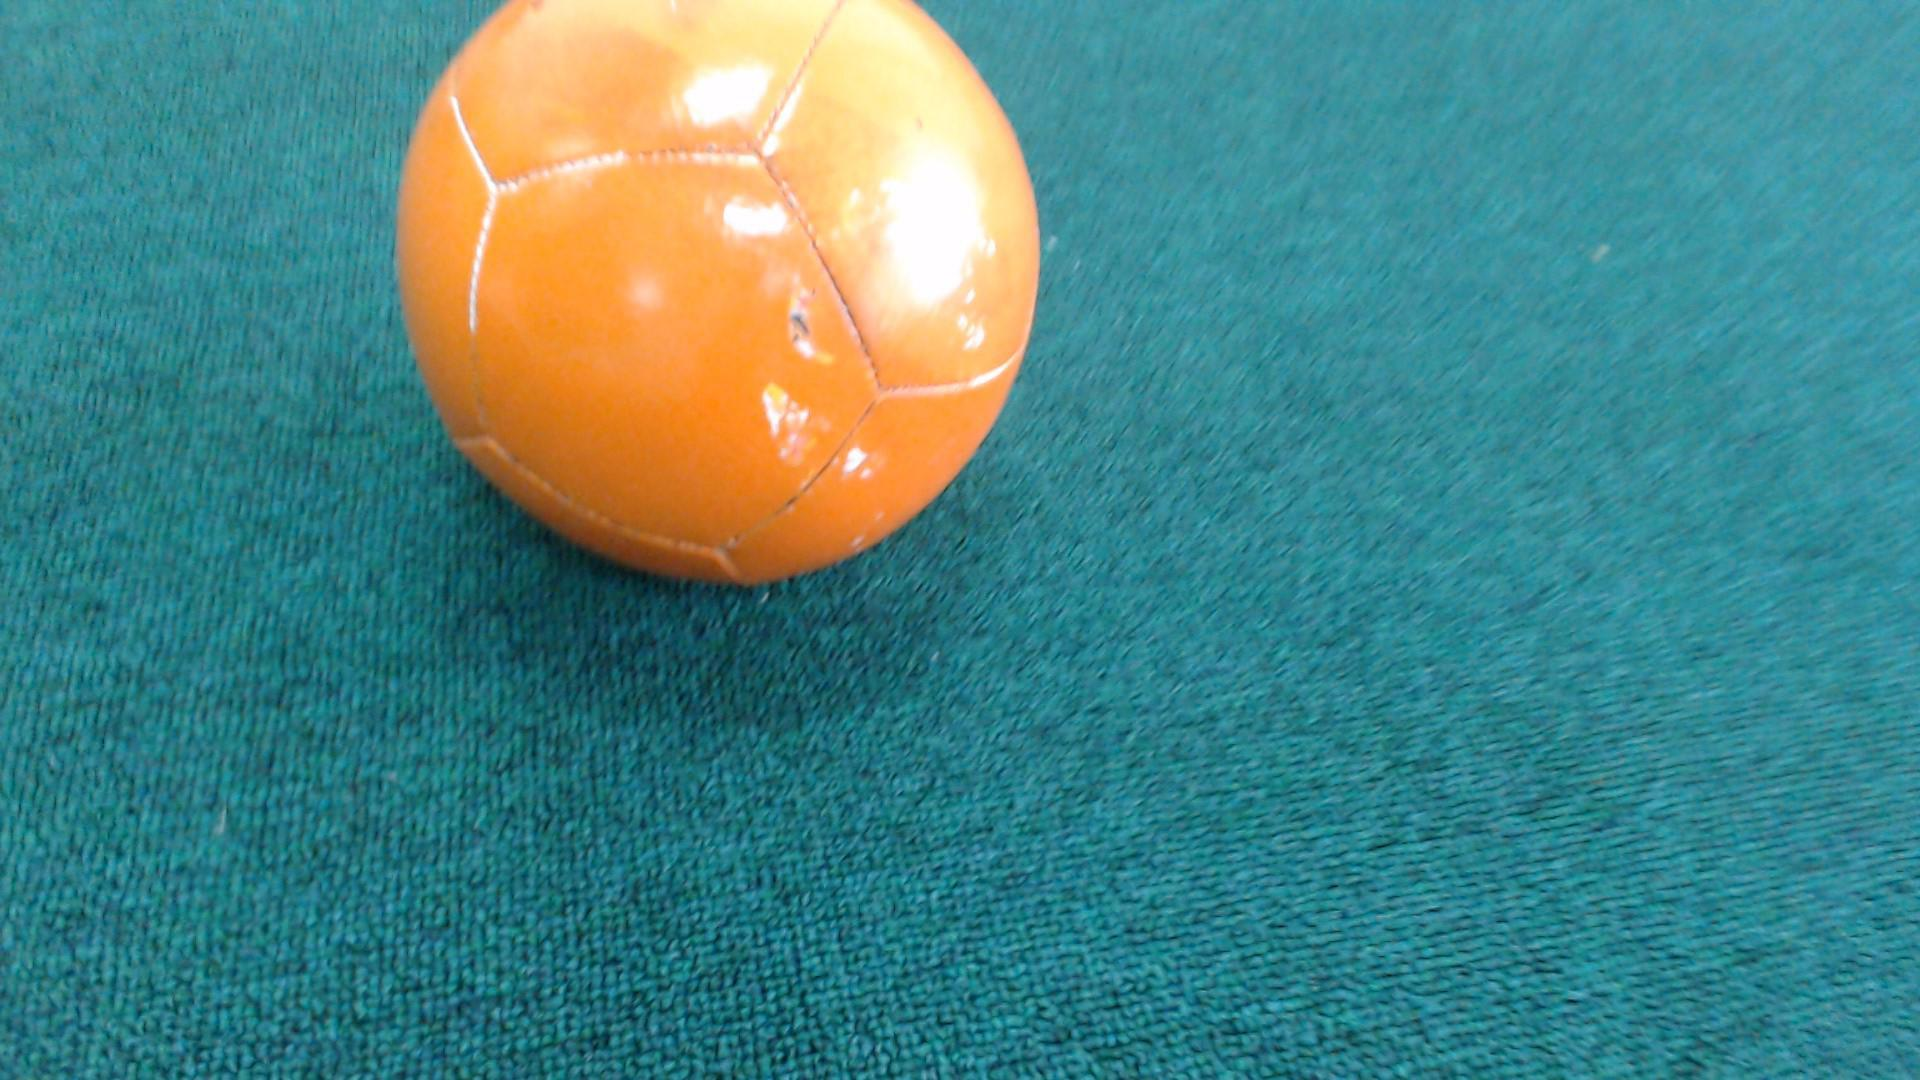bola: (368, 0, 1083, 608)
